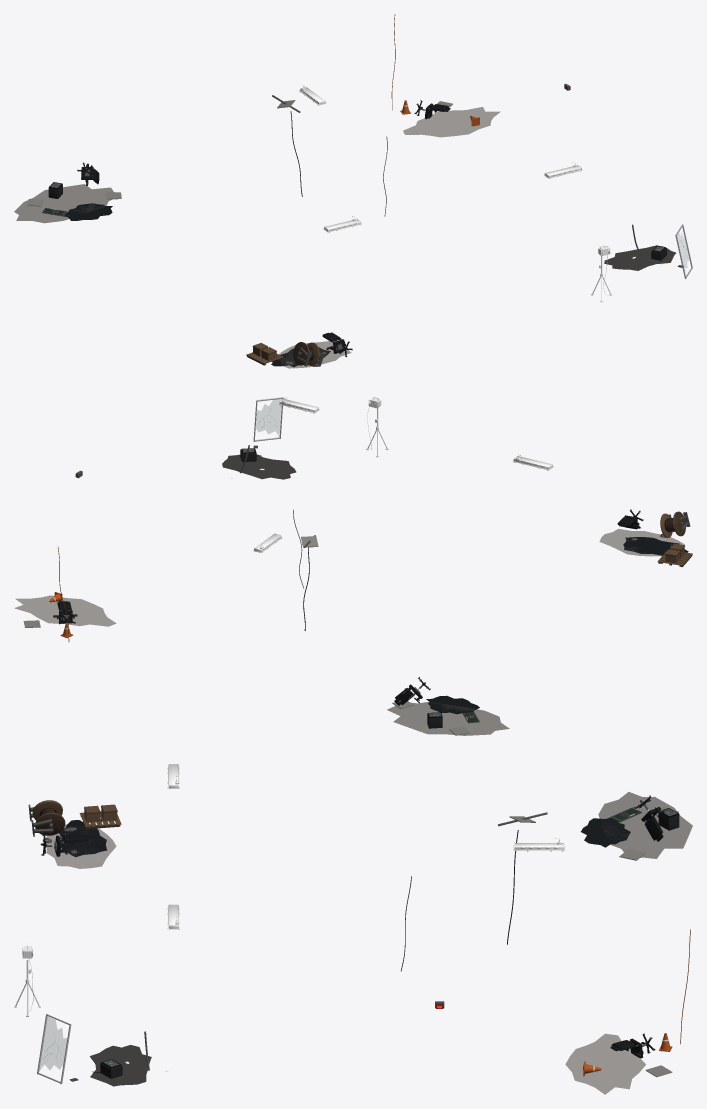
The model's file is z10_abandon.glb.
The picture shows the model from 3 angles, top to bottom: view 1: azimuth 30°, elevation 25°; view 2: azimuth 150°, elevation 25°; view 3: azimuth 270°, elevation 25°; orthographic projection. The views are drawn at different scales.
Visible parts, largest first — view 1: DET_Z10_Dust_B, DET_Z10_Dust_C, DET_Z10_Puddle_C, DET_Z10_Dust_A, DET_Z10_CableReel, DET_Z10_Puddle_B; view 2: DET_Z10_Dust_B, DET_Z10_Dust_C, DET_Z10_Puddle_C, DET_Z10_Glass, DET_Z10_Dust_A, DET_Z10_Puddle_A, DET_Z10_Puddle_B, DET_Z10_CableReel; view 3: DET_Z10_Dust_C, DET_Z10_Dust_B, DET_Z10_Puddle_C, DET_Z10_Glass, DET_Z10_Dust_A, DET_Z10_CableReel, DET_Z10_Puddle_B, DET_Z10_Puddle_A, DET_Z10_Pallet, DET_Z10_Chair_B.
Boxes of the visible parts, box(x1,y1,x2,y2) form: DET_Z10_Dust_B: box(14, 184, 113, 223); DET_Z10_Dust_C: box(403, 107, 500, 137); DET_Z10_Puddle_C: box(604, 245, 675, 270); DET_Z10_Dust_A: box(279, 341, 351, 368); DET_Z10_CableReel: box(293, 342, 324, 366); DET_Z10_Puddle_B: box(64, 203, 112, 220); DET_Z10_Dust_B: box(387, 701, 509, 735); DET_Z10_Dust_C: box(14, 595, 116, 626); DET_Z10_Puddle_C: box(222, 454, 296, 479); DET_Z10_Glass: box(253, 397, 283, 441); DET_Z10_Dust_A: box(599, 529, 684, 556); DET_Z10_Puddle_A: box(623, 537, 688, 555); DET_Z10_Puddle_B: box(426, 695, 479, 714); DET_Z10_CableReel: box(660, 511, 690, 538); DET_Z10_Dust_C: box(565, 1033, 645, 1094); DET_Z10_Dust_B: box(598, 792, 692, 859); DET_Z10_Puddle_C: box(90, 1045, 151, 1086); DET_Z10_Glass: box(37, 1014, 71, 1084); DET_Z10_Dust_A: box(46, 824, 116, 868); DET_Z10_CableReel: box(28, 800, 65, 836); DET_Z10_Puddle_B: box(581, 818, 630, 847); DET_Z10_Puddle_A: box(59, 820, 107, 857); DET_Z10_Pallet: box(79, 804, 121, 829); DET_Z10_Chair_B: box(633, 795, 664, 841).
Size of the model in its own units: 21.81 by 4.08 by 20.43.
